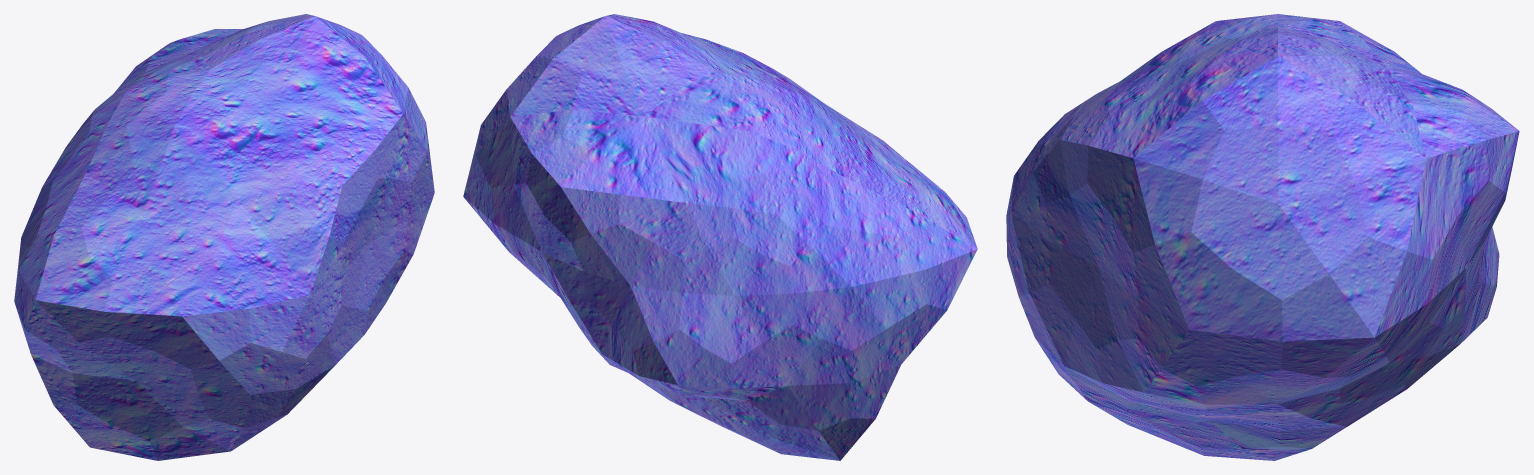
The model's file is smallasteroid11_LOD3.fbx.
3 views of the same model, side by side, from view 1: azimuth 30°, elevation 25°; view 2: azimuth 150°, elevation 25°; view 3: azimuth 270°, elevation 25° (orthographic). The views are drawn at different scales.
Parts seen in each view (by area): view 1: Icosphere; view 2: Icosphere; view 3: Icosphere.
Part boxes in pixels (x1,y1,x2,y2): Icosphere: (14, 14, 434, 460); Icosphere: (463, 14, 977, 460); Icosphere: (1006, 14, 1519, 460).
Bounding box in the file's own units: 297 × 258 × 243.
